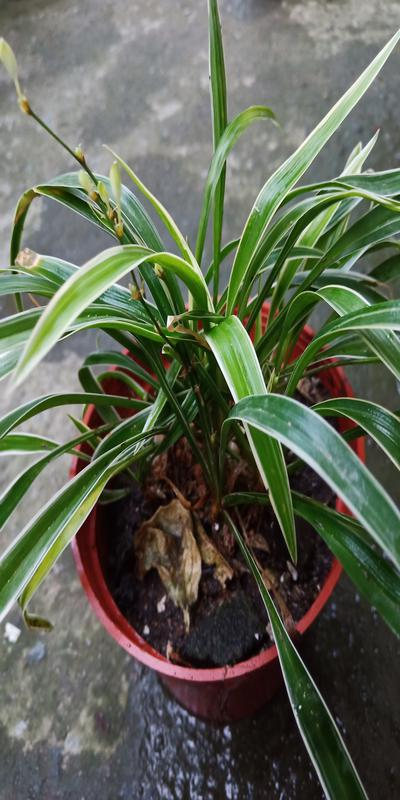Yellow and green leaf: (19, 166, 384, 668)
